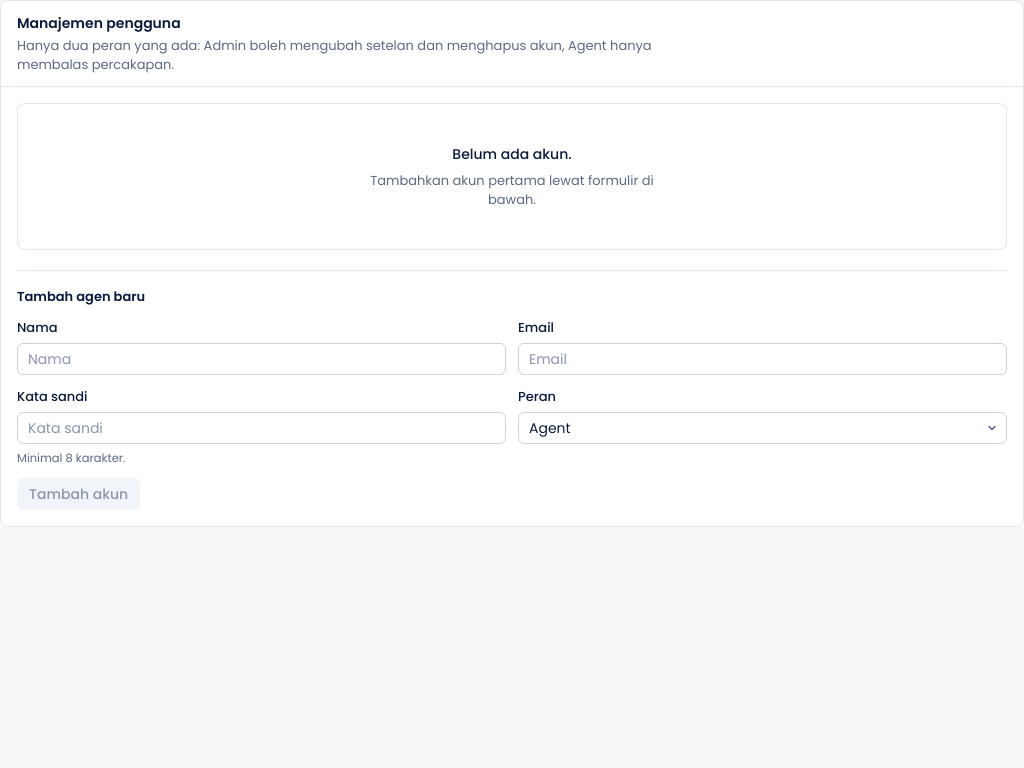
UserManagementSection › disables "Tambah akun" until name, email, and password are filled
Expected: the button "Tambah akun" is disabled, [17,478,140,510]
Type "Agen Baru" into the field labelled "Nama". click: (262, 359)
box: [17,343,506,375]
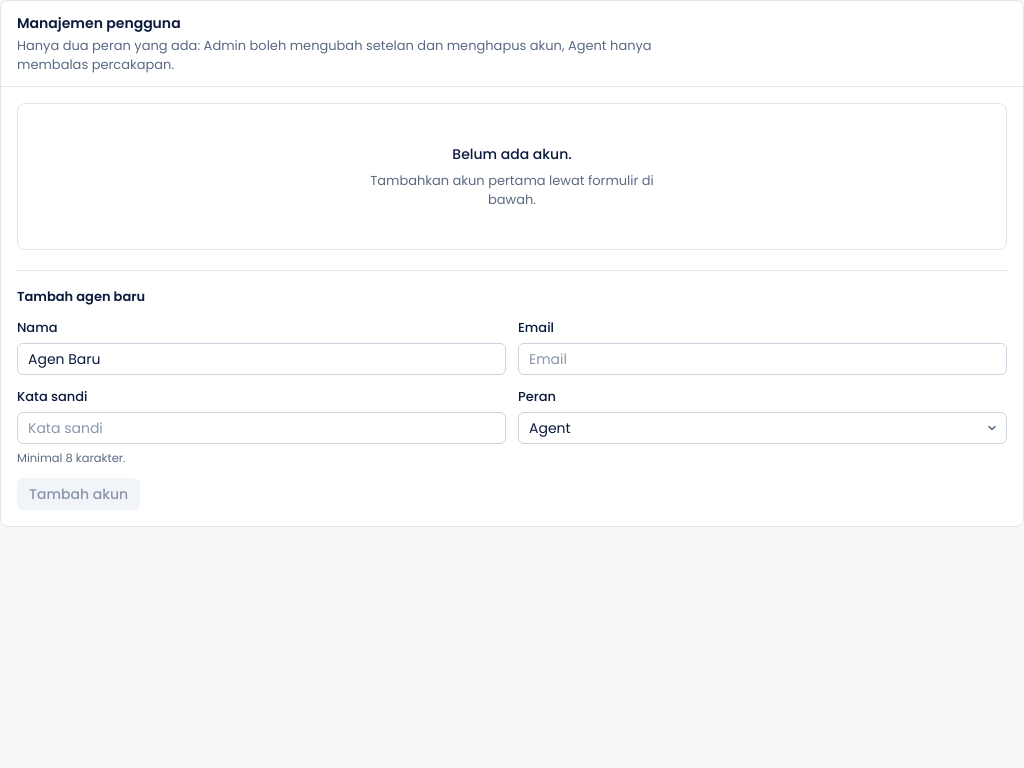
Type "agen@jvto.com" into the field labelled "Email". click: (762, 359)
box: [518,343,1007,375]
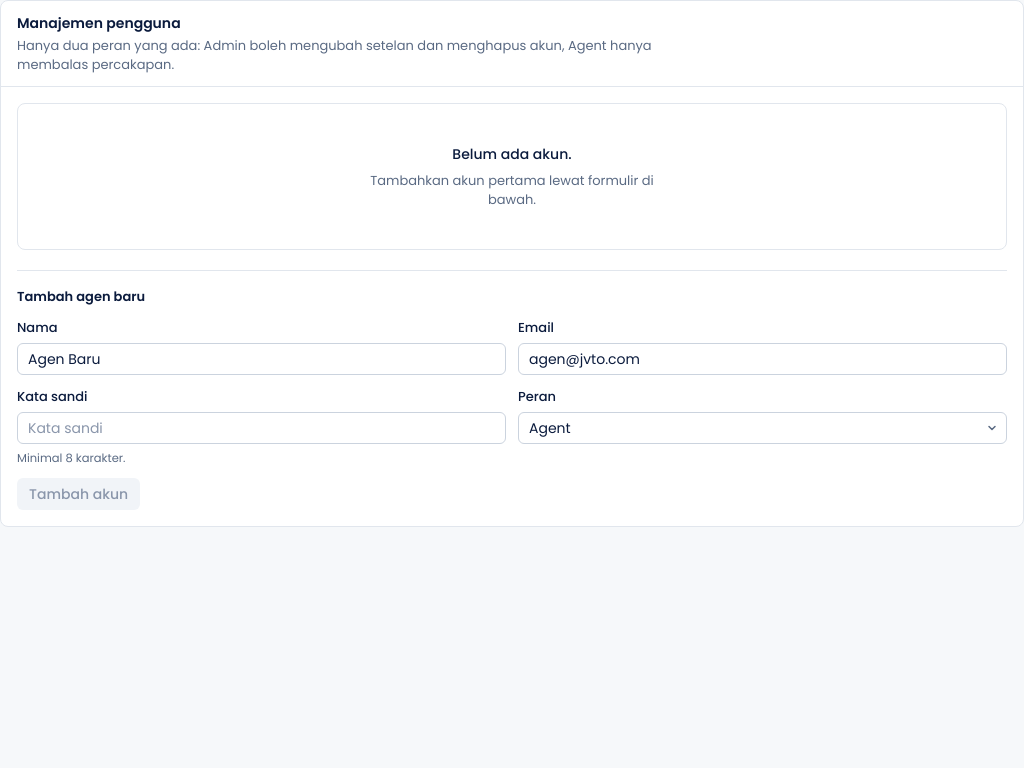
Expected: the button "Tambah akun" is disabled, [17,478,140,510]
Type "Rahasia123" into the password field labelled "Kata sandi". click: (262, 428)
box: [17,412,506,444]
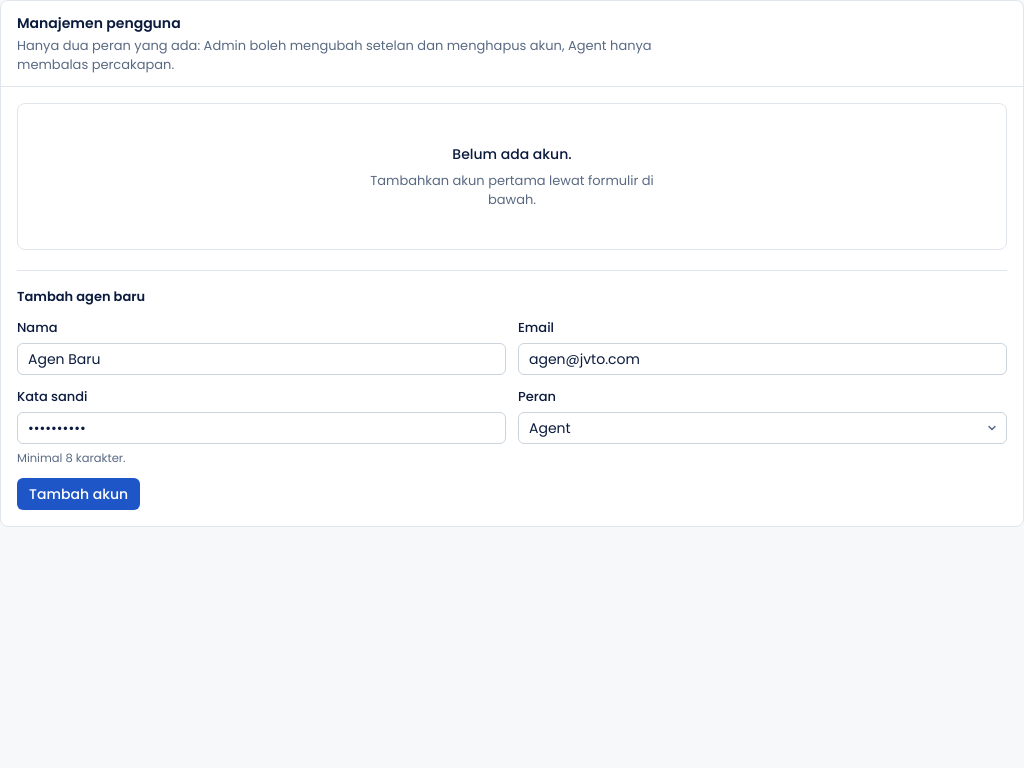
Expected: the button "Tambah akun" is enabled, [17,478,140,510]
